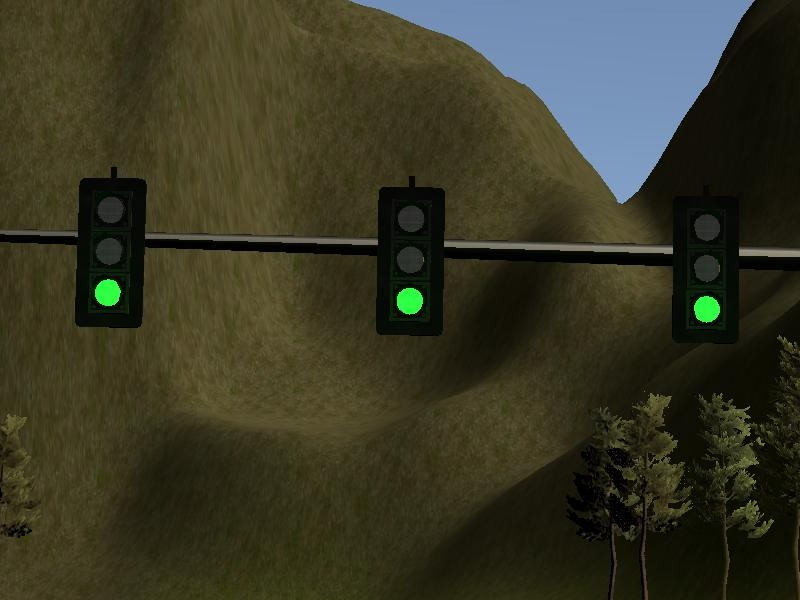GREEN: (75, 179, 143, 331), (375, 189, 443, 341), (670, 198, 738, 350)
